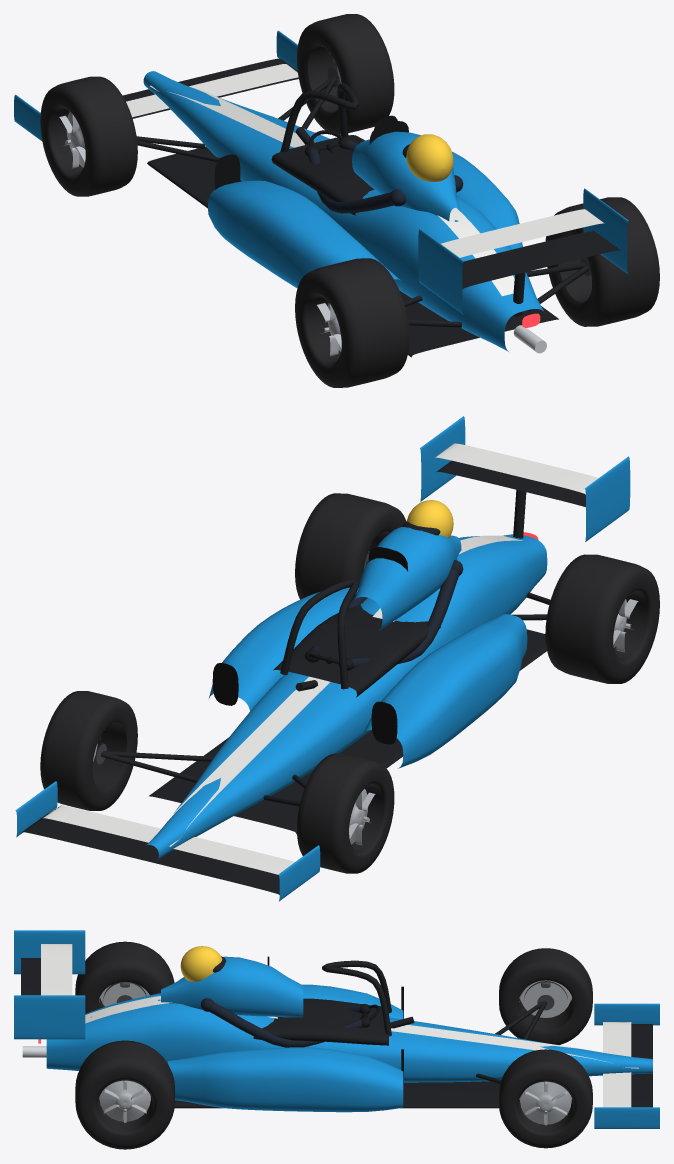
File: race-car.af7b4fdc.glb
3 views of the same model, one above another, from view 1: azimuth 30°, elevation 25°; view 2: azimuth 150°, elevation 25°; view 3: azimuth 270°, elevation 25° (orthographic). The views are drawn at different scales.
Parts seen in each view (by area): view 1: chassis, wheel_rl, wheel_fl, wheel_fr, wheel_rr; view 2: chassis, wheel_rl, wheel_fl, wheel_fr, wheel_rr; view 3: chassis, wheel_rr, wheel_fr, wheel_fl, wheel_rl.
Boxes of the visible parts, x1,y1,x2,y2 form: chassis: (14,30,628,357); wheel_rl: (295,258,409,387); wheel_fl: (40,76,137,196); wheel_fr: (297,14,394,134); wheel_rr: (545,197,659,326); chassis: (15,416,630,901); wheel_rl: (545,554,659,683); wheel_fl: (297,753,394,873); wheel_fr: (40,691,137,810); wheel_rr: (295,493,406,599); chassis: (14,930,659,1128); wheel_rr: (75,1040,174,1149); wheel_fr: (499,1049,592,1148); wheel_fl: (499,948,592,1044); wheel_rl: (75,941,174,1013).
Bounding box in the file's own units: 2.04 × 1.11 × 4.53.
